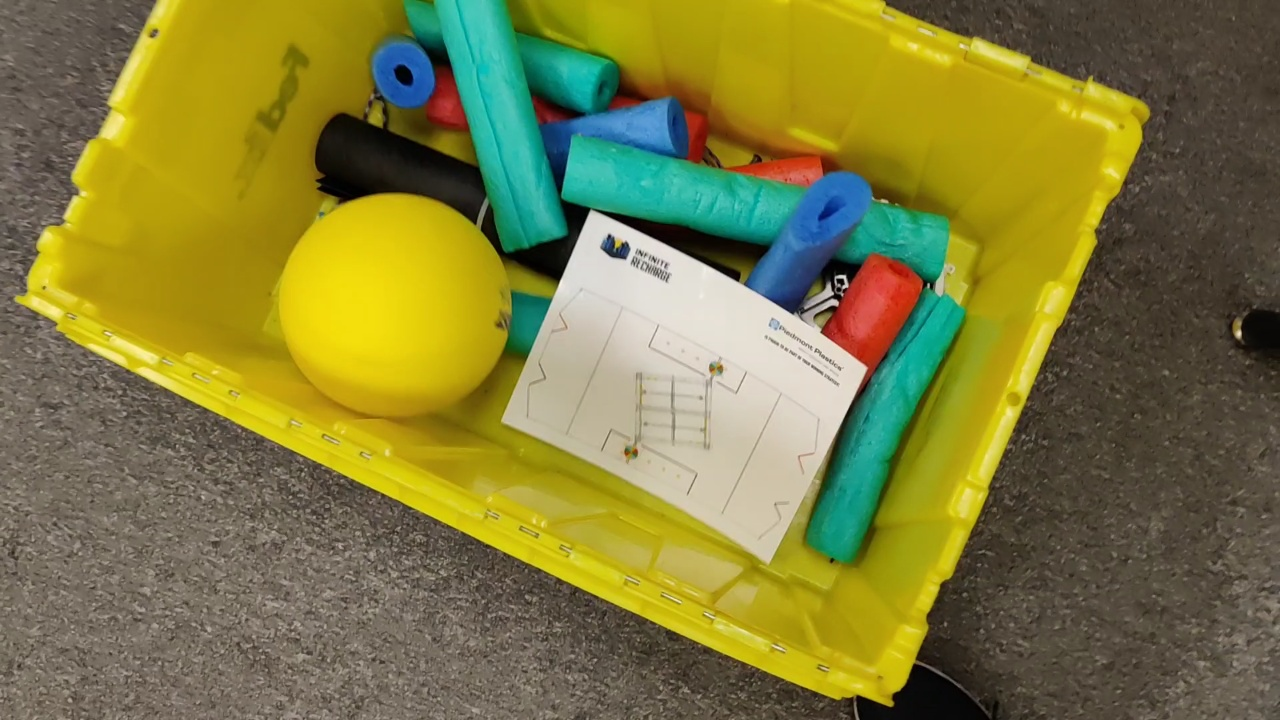Ball: (278, 188, 509, 414)
